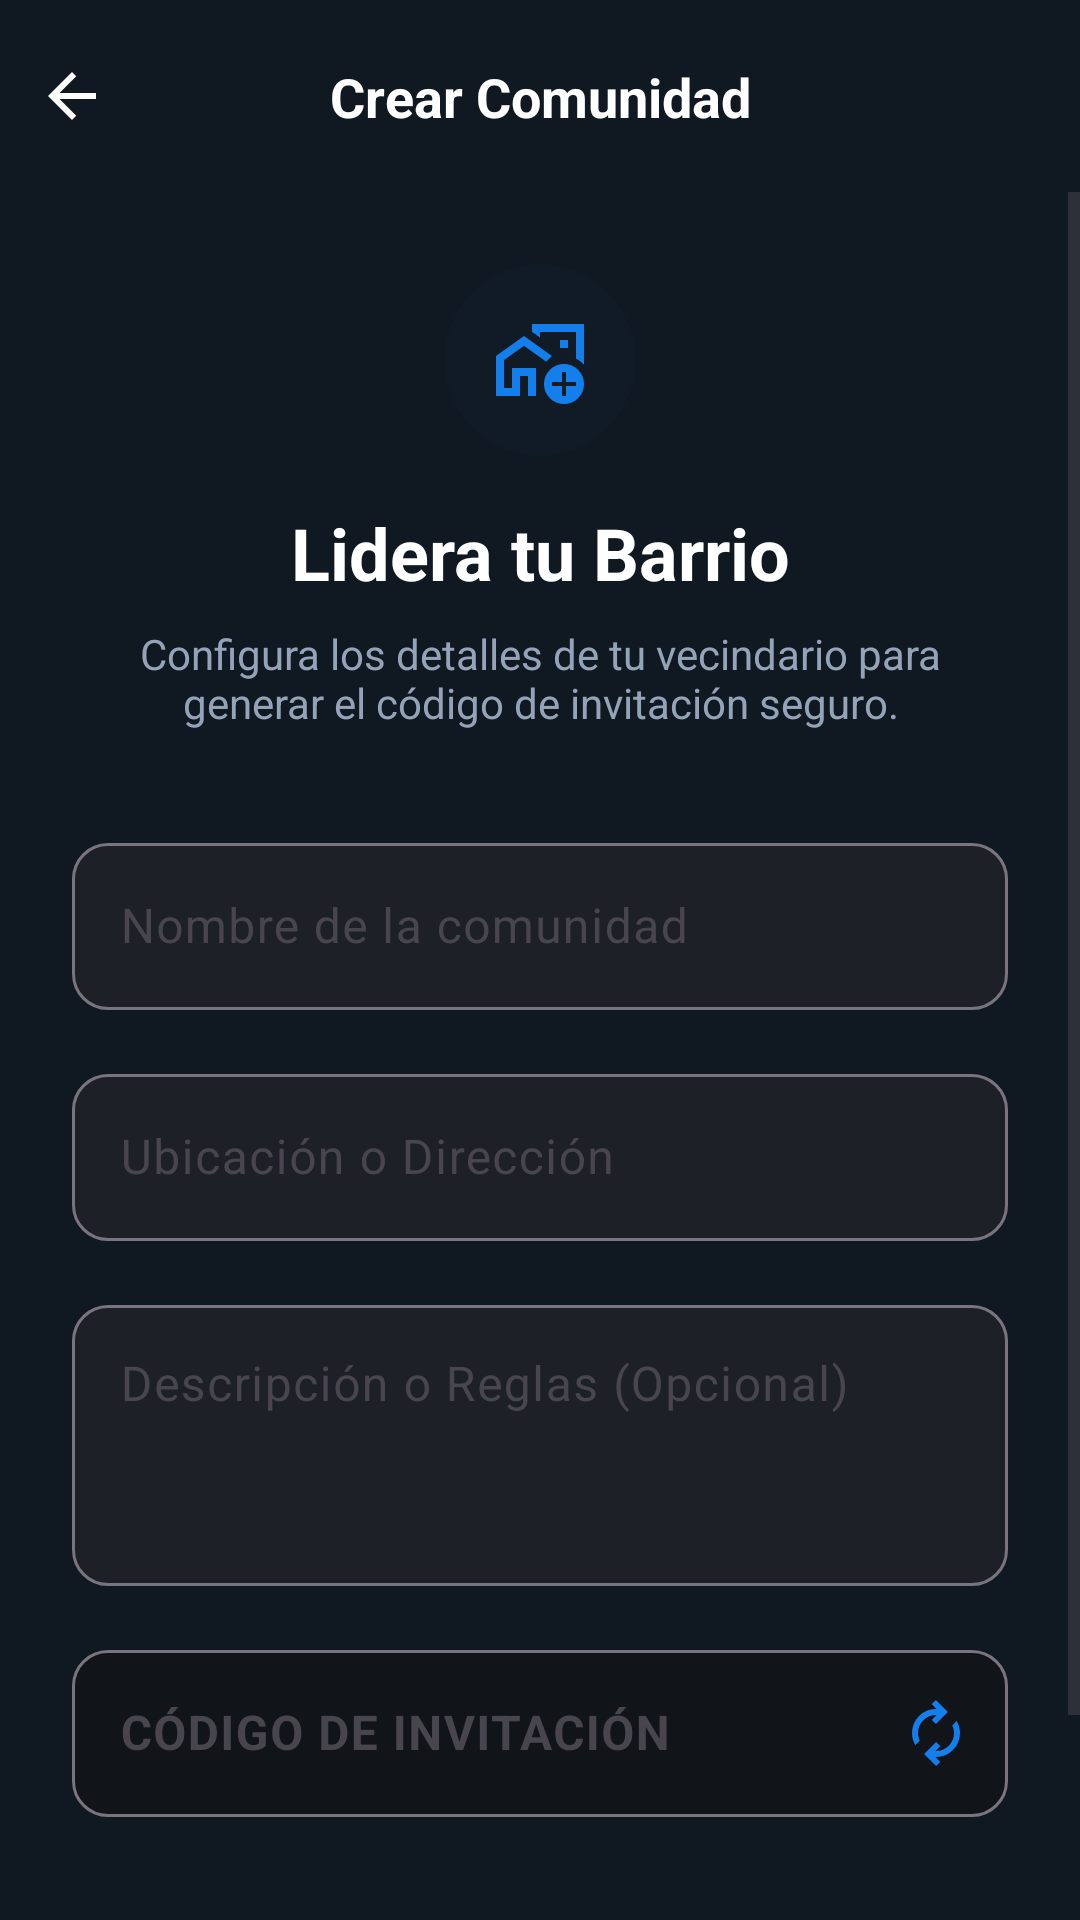

Where icons sit on this 1080 × 1920 app screen, as bbox=(x1, y1, x2, y2):
arrow back: bbox=(48, 72, 96, 120)
home work: bbox=(496, 324, 584, 404)
